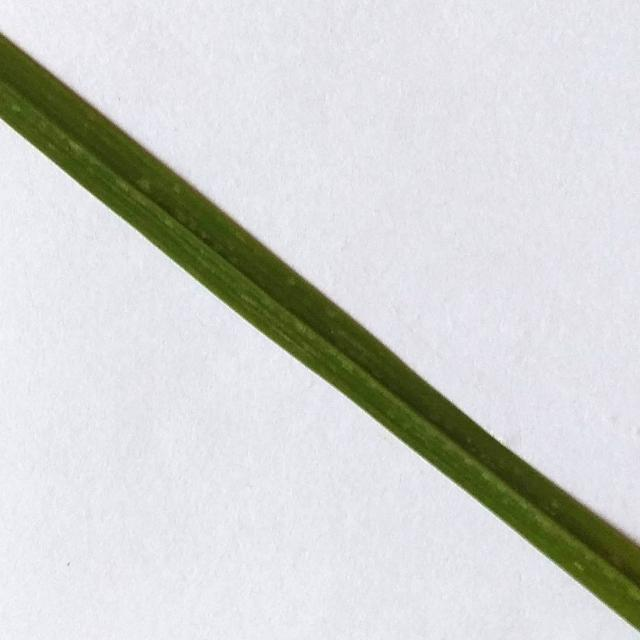Rice_Healthy: (0, 34, 640, 629)
